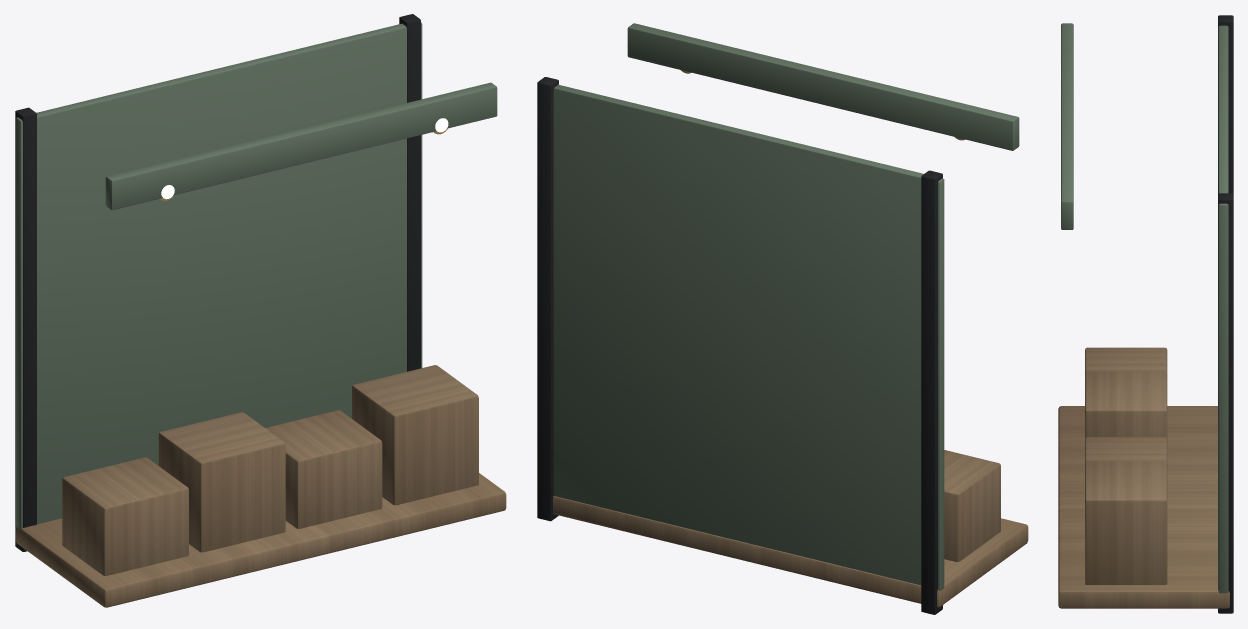
Rendered from pf_display_window_display_t3.glb.
3 renders of one model, left to right at view 1: azimuth 30°, elevation 25°; view 2: azimuth 150°, elevation 25°; view 3: azimuth 270°, elevation 25°, orthographic. The views are drawn at different scales.
Visible parts, largest first — view 1: Window_Backdrop, Window_Display_Platform, Header_Back, Display_Plinth_02, Display_Plinth_04, Display_Plinth_01, Display_Plinth_03, Window_Frame_-0.93, Window_Frame_+0.93; view 2: Window_Backdrop, Header_Back, Window_Display_Platform, Window_Frame_-0.93, Window_Frame_+0.93, Display_Plinth_01; view 3: Window_Display_Platform, Display_Plinth_04, Window_Backdrop, Display_Plinth_02, Window_Frame_+0.93, Header_Back, Display_Plinth_01, Display_Plinth_03, Window_Frame_-0.93.
Boxes of the visible parts, box(x1,y1,x2,y2) form: Window_Backdrop: box(16, 22, 422, 529); Window_Display_Platform: box(15, 473, 506, 607); Header_Back: box(105, 82, 497, 210); Display_Plinth_02: box(158, 412, 285, 552); Display_Plinth_04: box(352, 365, 478, 505); Display_Plinth_01: box(62, 457, 188, 575); Display_Plinth_03: box(265, 410, 382, 528); Window_Frame_-0.93: box(15, 107, 36, 551); Window_Frame_+0.93: box(399, 14, 420, 371); Window_Backdrop: box(553, 84, 944, 590); Header_Back: box(627, 23, 1019, 150); Window_Display_Platform: box(553, 496, 1028, 607); Window_Frame_-0.93: box(921, 170, 942, 614); Window_Frame_+0.93: box(537, 77, 558, 521); Display_Plinth_01: box(944, 450, 1000, 561); Window_Display_Platform: box(1058, 406, 1229, 608); Display_Plinth_04: box(1085, 461, 1167, 584); Window_Backdrop: box(1218, 25, 1228, 593); Display_Plinth_02: box(1085, 371, 1167, 438); Window_Frame_+0.93: box(1218, 193, 1233, 613); Header_Back: box(1061, 23, 1073, 229); Display_Plinth_01: box(1085, 347, 1167, 373); Display_Plinth_03: box(1085, 437, 1167, 462); Window_Frame_-0.93: box(1218, 15, 1233, 193).
Size of the model in its own units: 1.95 by 2.02 by 0.775.
6 materials, 2 textured.
